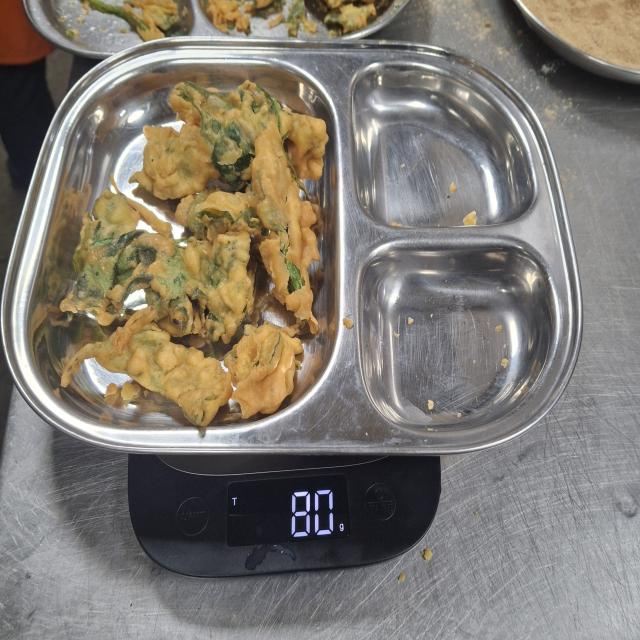Chaat: (69, 80, 327, 429)
